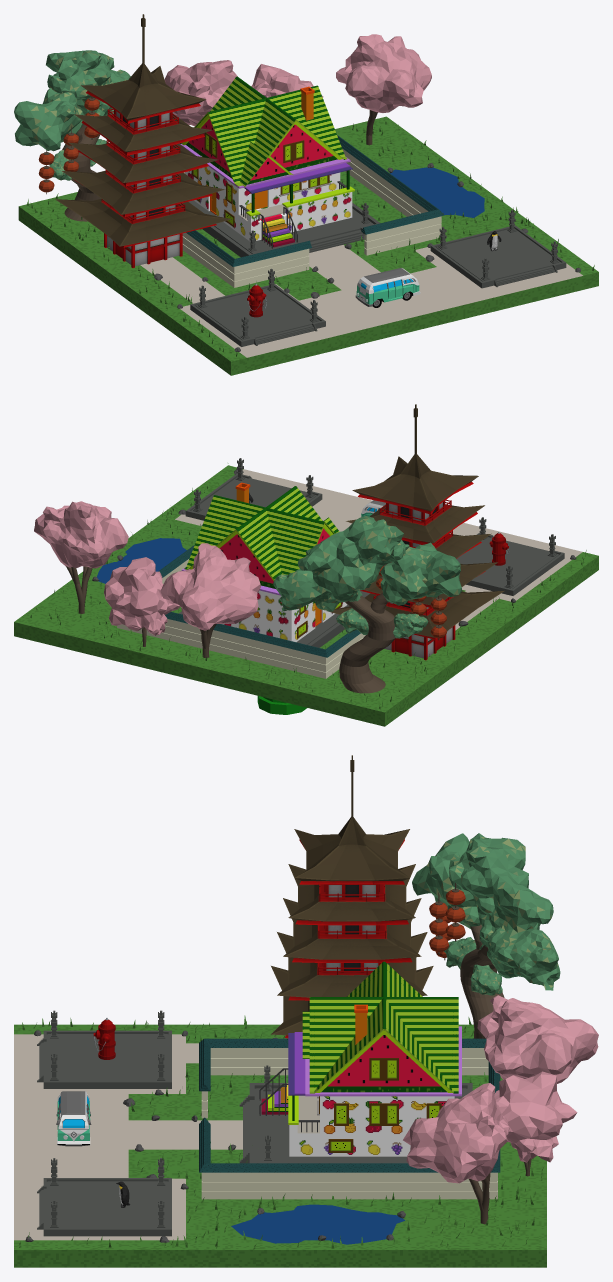
3 views of the same model, one above another, from view 1: azimuth 30°, elevation 25°; view 2: azimuth 150°, elevation 25°; view 3: azimuth 270°, elevation 25° (orthographic). The views are drawn at different scales.
Visible parts, largest first — view 1: Cube.005, Cube.1063, VEHICLES_VAN; view 2: Cube.005, Cube.1063, UNDERGROUND_PIPES, OBJRANDOM_FIRE_HYDRANT; view 3: Cube.005, Cube.1063, VEHICLES_VAN, OBJRANDOM_FIRE_HYDRANT.
Part boxes in pixels (left/top/right/bottom): Cube.005: left=14, top=14, right=598, bottom=375; Cube.1063: left=179, top=76, right=354, bottom=248; VEHICLES_VAN: left=355, top=268, right=420, bottom=307; Cube.005: left=14, top=404, right=598, bottom=726; Cube.1063: left=181, top=482, right=347, bottom=642; UNDERGROUND_PIPES: left=257, top=696, right=306, bottom=714; OBJRANDOM_FIRE_HYDRANT: left=489, top=532, right=509, bottom=565; Cube.005: left=14, top=755, right=598, bottom=1267; Cube.1063: left=259, top=961, right=461, bottom=1156; VEHICLES_VAN: left=56, top=1091, right=91, bottom=1146; OBJRANDOM_FIRE_HYDRANT: left=93, top=1018, right=115, bottom=1059.
Size of the model in its own units: 4528 by 3273 by 4389.
39 materials, 7 textured.
